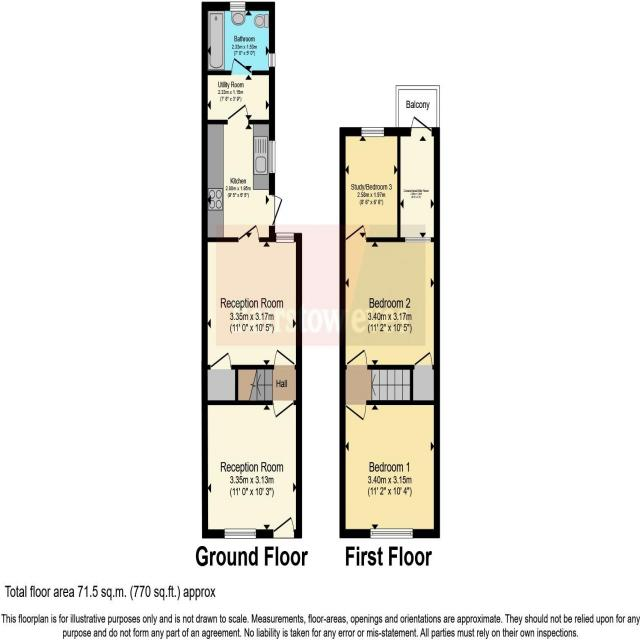DOOR: (273, 515, 295, 539), (345, 348, 368, 370), (345, 399, 367, 422), (273, 348, 295, 370), (269, 194, 283, 226), (209, 351, 232, 370), (273, 400, 294, 420), (414, 350, 433, 370)
ROOM: (201, 222, 302, 370), (339, 223, 440, 370), (201, 398, 303, 538), (339, 400, 440, 539), (201, 103, 284, 243), (339, 126, 401, 242)
WINDOW: (369, 527, 414, 540), (223, 528, 257, 540), (361, 126, 385, 138), (268, 140, 276, 174), (276, 232, 295, 244), (229, 1, 246, 12), (268, 52, 276, 68)
